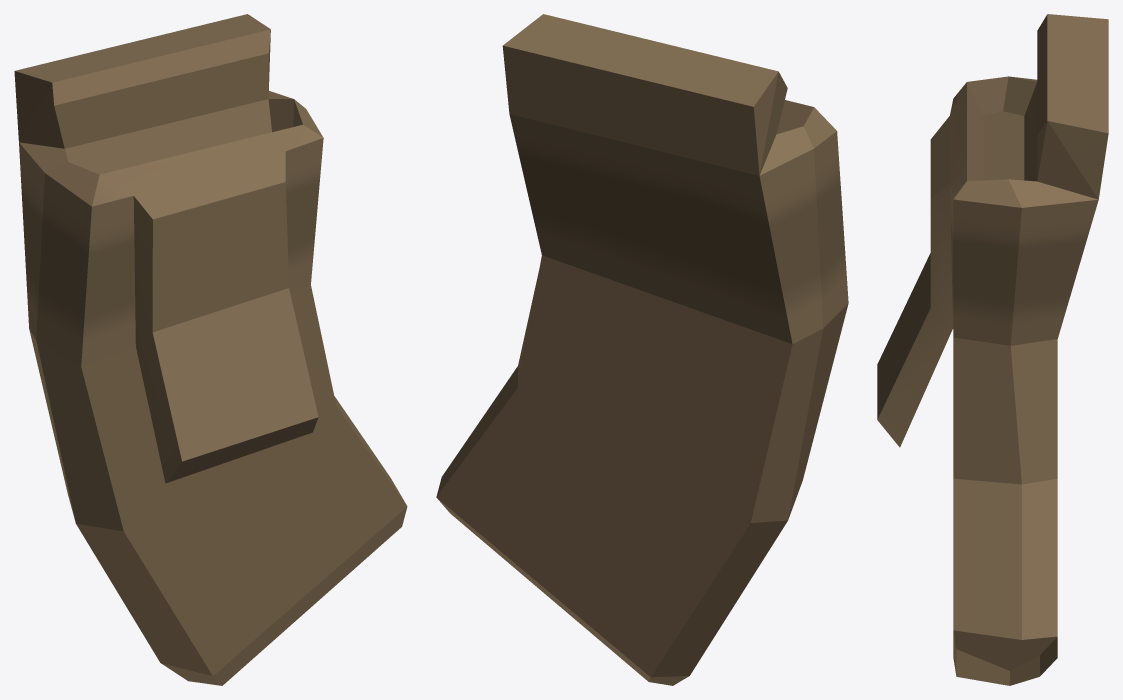
Rendered from SM_Chr_Attach_Pouch_Mag_02.fbx.
3 views of the same model, side by side, from view 1: azimuth 30°, elevation 25°; view 2: azimuth 150°, elevation 25°; view 3: azimuth 270°, elevation 25° (orthographic). The views are drawn at different scales.
Visible parts, largest first — view 1: SM_Chr_Attach_Pouch_Mag_02; view 2: SM_Chr_Attach_Pouch_Mag_02; view 3: SM_Chr_Attach_Pouch_Mag_02.
Part boxes in pixels (x1,y1,x2,y2): SM_Chr_Attach_Pouch_Mag_02: [14, 14, 407, 685]; SM_Chr_Attach_Pouch_Mag_02: [436, 14, 848, 685]; SM_Chr_Attach_Pouch_Mag_02: [877, 14, 1108, 685].
Bounding box in the file's own units: 15.61 × 25.81 × 8.8.
